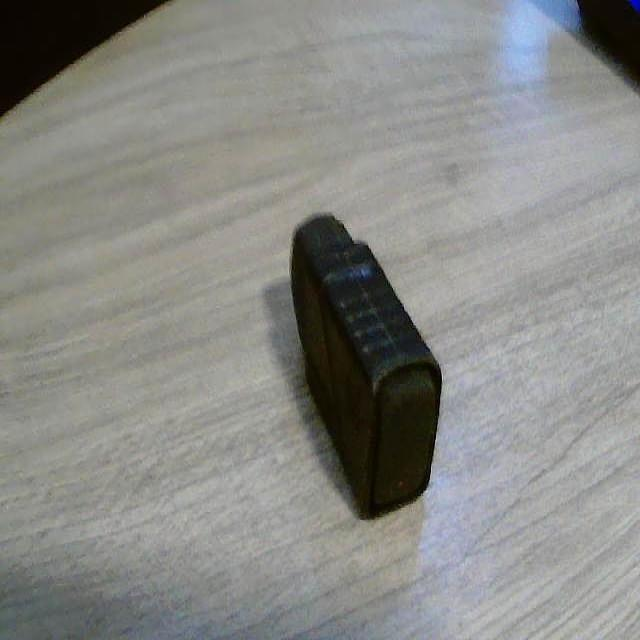borracha: (261, 192, 456, 524)
